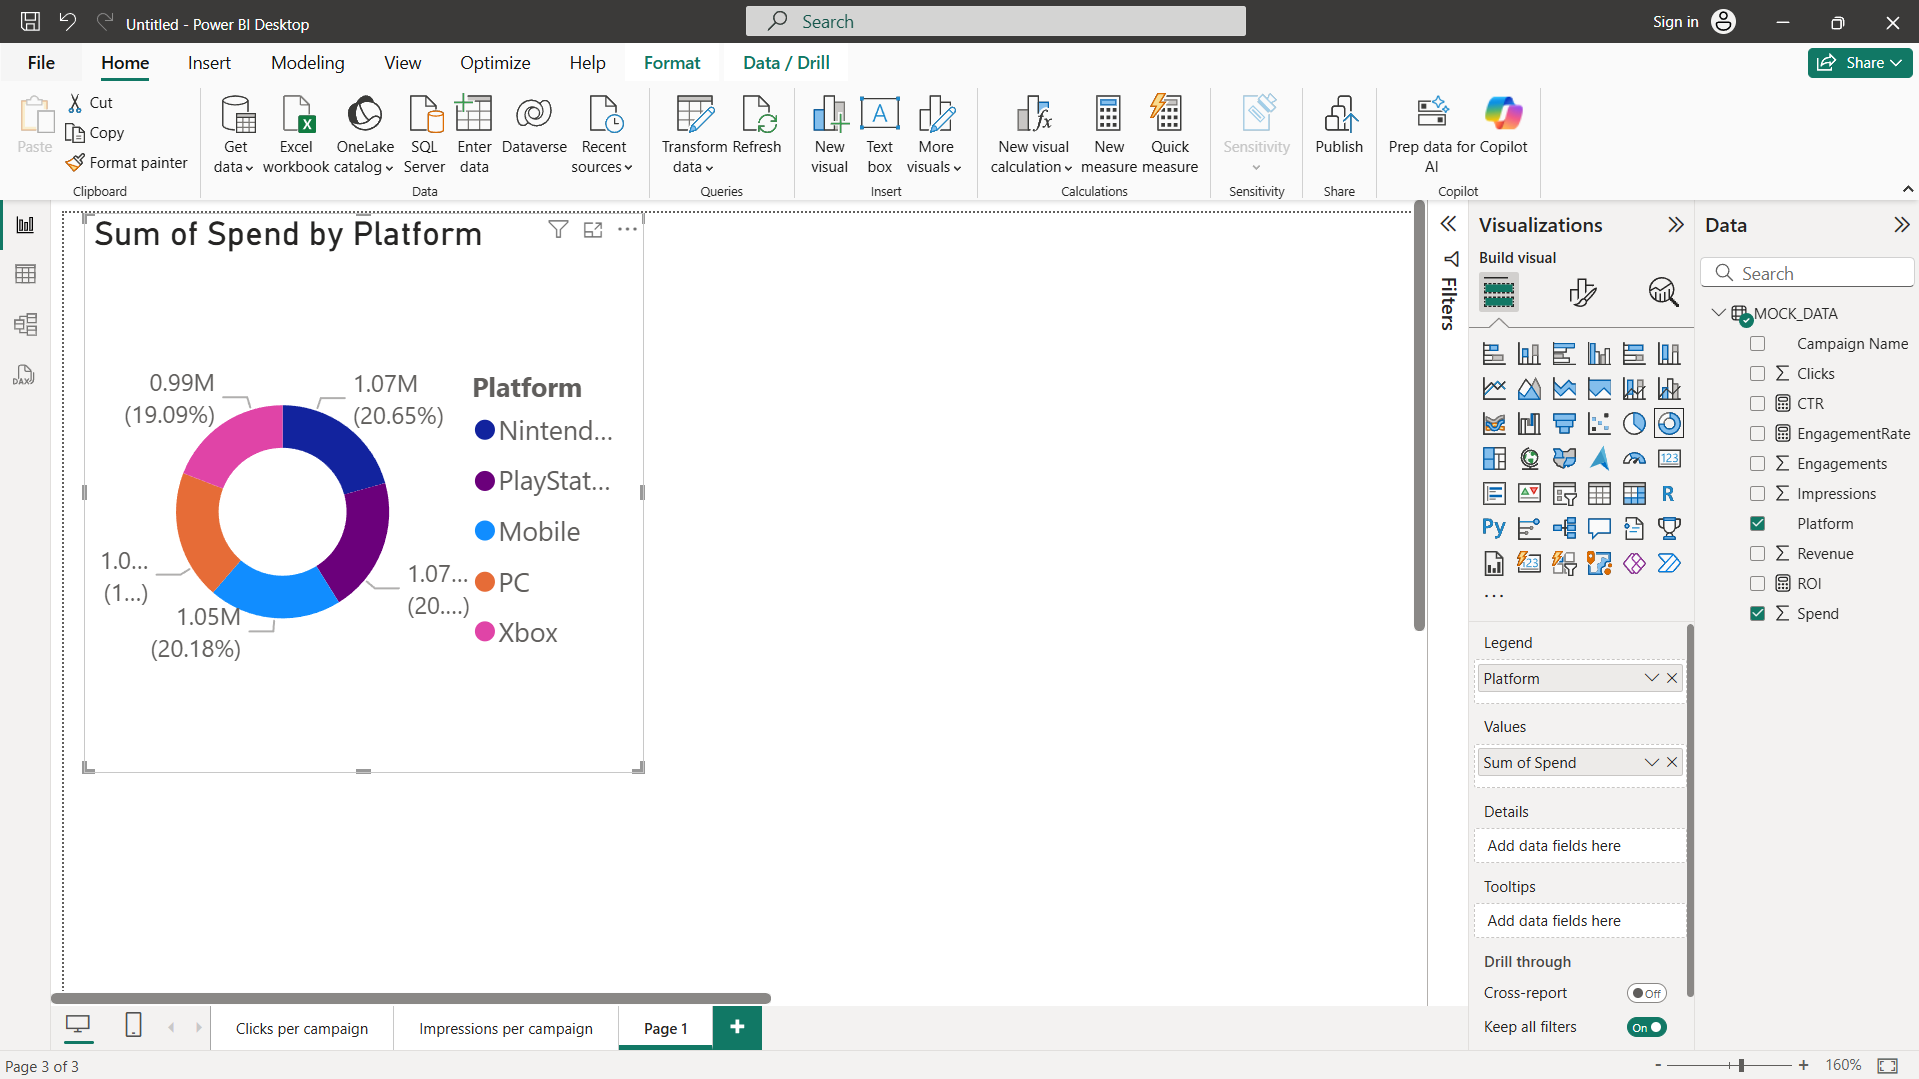

This screenshot's page, from the dashboard's own definition file:
{"tool":"powerbi","page":{"name":"Spend distribution","canvas":[1280,720],"ordinal":2},"visuals":[{"type":"donutChart","fields":{"Category":["MOCK_DATA.Platform"],"Y":["Sum(MOCK_DATA.Spend)"]},"box":[10,0,280,280],"z":0}]}

Visuals, with their boxes on the page's 1280x720 design canvas (x1, y1, x2, y2). These are canvas units, not pixel positions in the 1919x1079 screenshot, which may show the page scaled, cropped or inside an application window:
donutChart - MOCK_DATA.Platform x Sum(MOCK_DATA.Spend): 10 0 290 280
